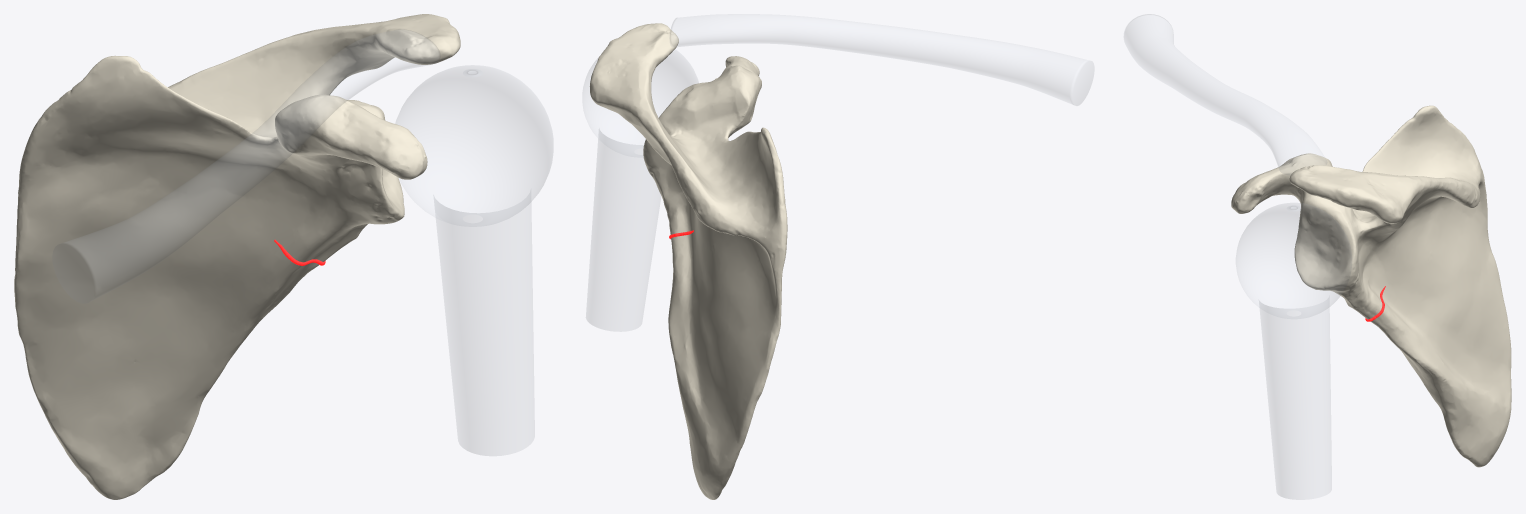
The model's file is shoulder.glb.
3 renders of one model, left to right at view 1: azimuth 30°, elevation 25°; view 2: azimuth 150°, elevation 25°; view 3: azimuth 270°, elevation 25°, orthographic. The views are drawn at different scales.
Visible parts, largest first — view 1: Scapula, Humerus, Clavicle; view 2: Scapula, Humerus, Clavicle; view 3: Scapula, Humerus, Clavicle.
Part boxes in pixels (x1,y1,x2,y2): Scapula: [14, 14, 460, 499]; Humerus: [395, 65, 552, 455]; Clavicle: [53, 30, 439, 303]; Scapula: [589, 23, 787, 499]; Humerus: [583, 49, 698, 331]; Clavicle: [670, 14, 1093, 105]; Scapula: [1231, 105, 1511, 467]; Humerus: [1236, 203, 1351, 499]; Clavicle: [1124, 14, 1326, 174].
Size of the model in its own units: 0.1885 by 0.1656 by 0.1529.
